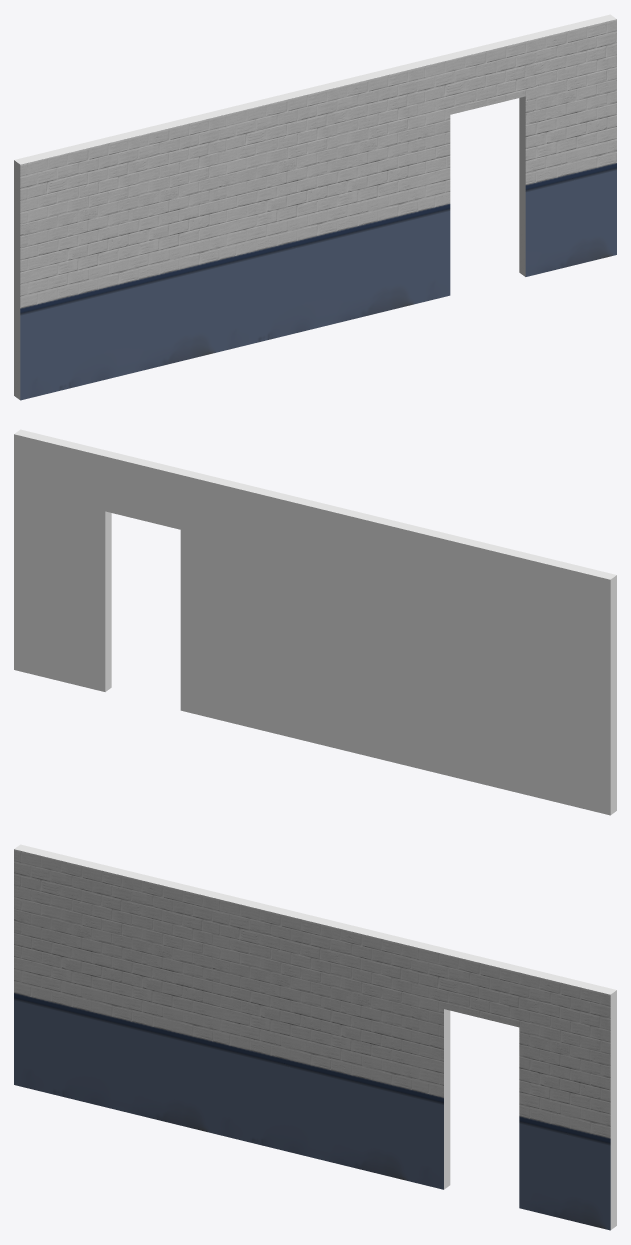
Rendered from Wall 3.FBX.
3 renders of one model, top to bottom at view 1: azimuth 30°, elevation 25°; view 2: azimuth 150°, elevation 25°; view 3: azimuth 330°, elevation 25°, orthographic.
Visible parts, largest first — view 1: Wall 3; view 2: Wall 3; view 3: Wall 3.
Boxes of the visible parts, bbox=[...] form: Wall 3: bbox=[14, 14, 616, 400]; Wall 3: bbox=[14, 429, 616, 815]; Wall 3: bbox=[14, 844, 616, 1230].
Bounding box in the file's own units: 703 × 266 × 13.24.
Materials: 2 (1 with a texture image).
